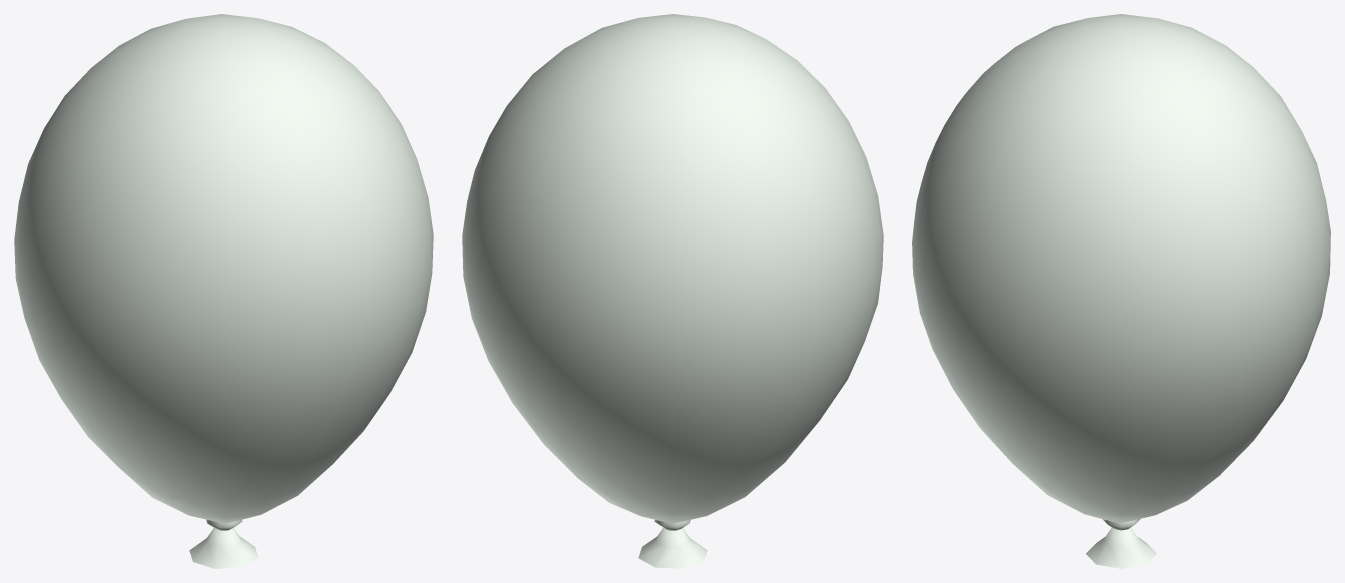
The model's file is balloon_classic.fbx.
3 renders of one model, left to right at view 1: azimuth 30°, elevation 25°; view 2: azimuth 150°, elevation 25°; view 3: azimuth 270°, elevation 25°, orthographic.
Visible parts, largest first — view 1: balloon_classic; view 2: balloon_classic; view 3: balloon_classic.
Part boxes in pixels (x1,y1,x2,y2): balloon_classic: (14,14,433,568); balloon_classic: (462,14,883,568); balloon_classic: (912,14,1330,568).
Size of the model in its own units: 0.38 by 0.3798 by 0.5229.
